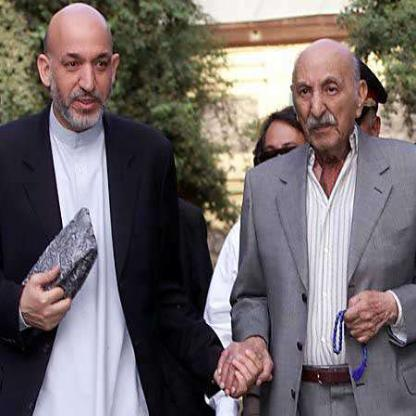face: (46, 4, 116, 127), (294, 41, 361, 153)
